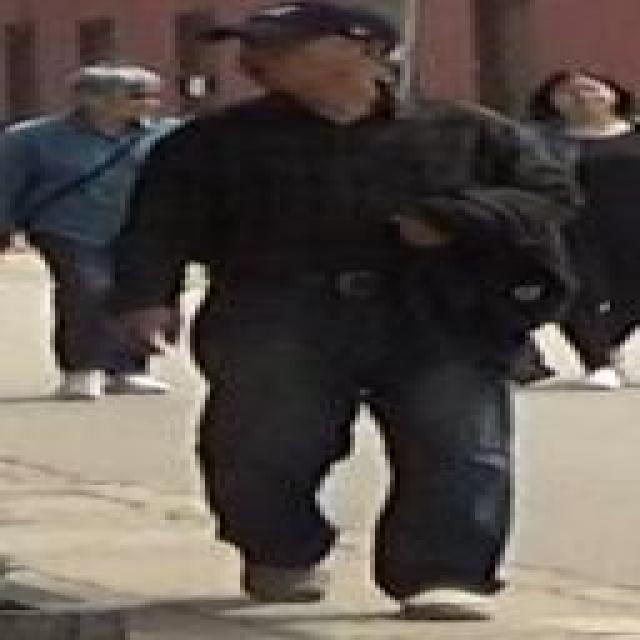adult: (125, 1, 560, 607), (0, 62, 197, 402), (508, 74, 640, 395)
